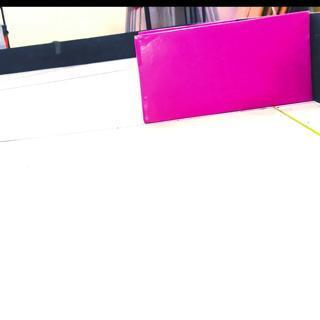xparking: (136, 30, 314, 114)
